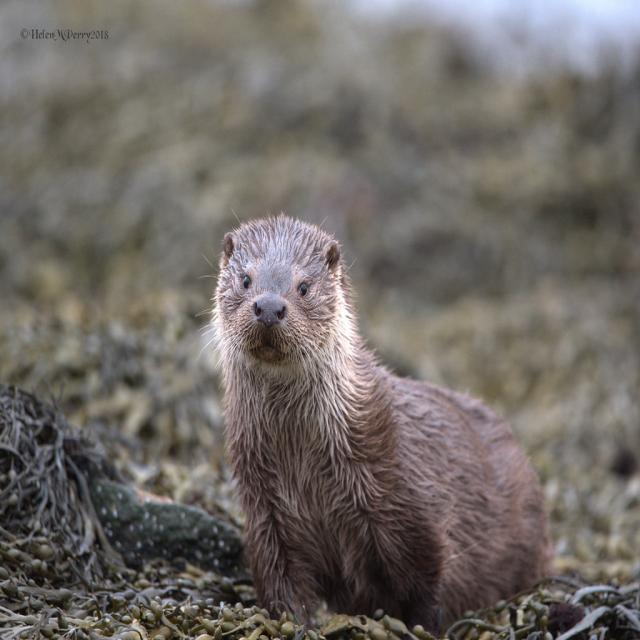otter: (219, 220, 544, 616)
